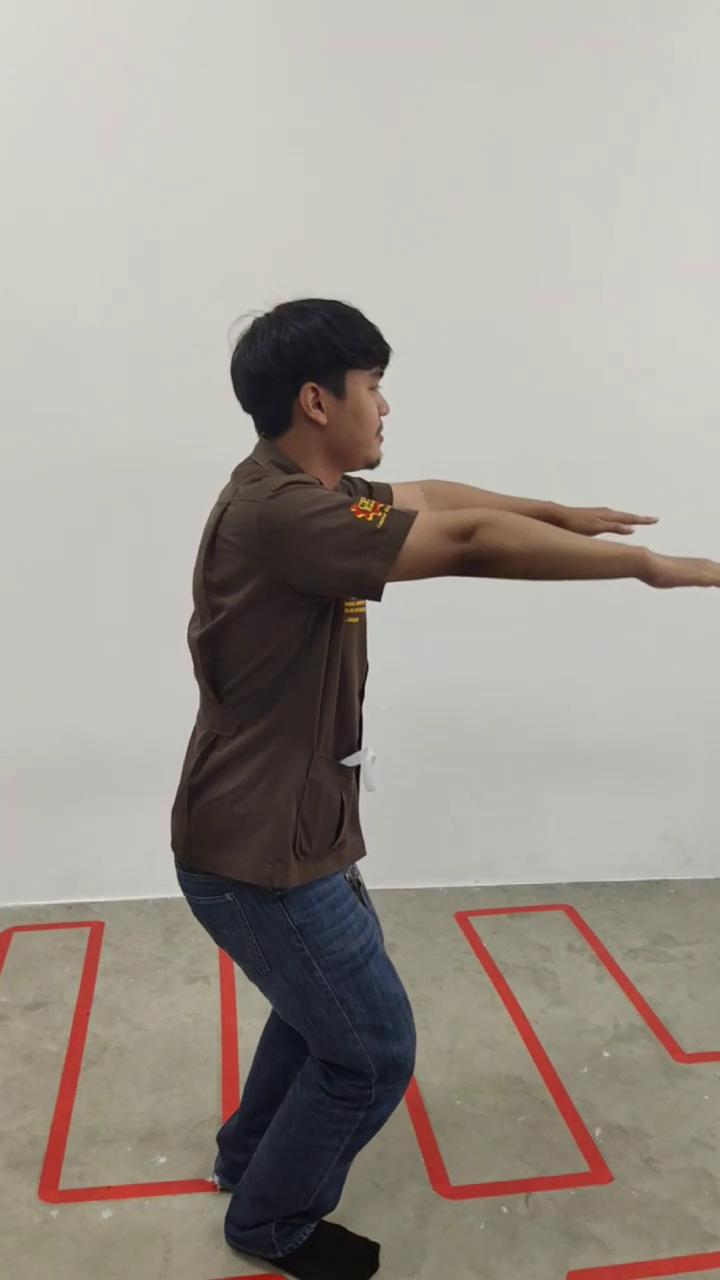squat up: (172, 300, 718, 1280)
